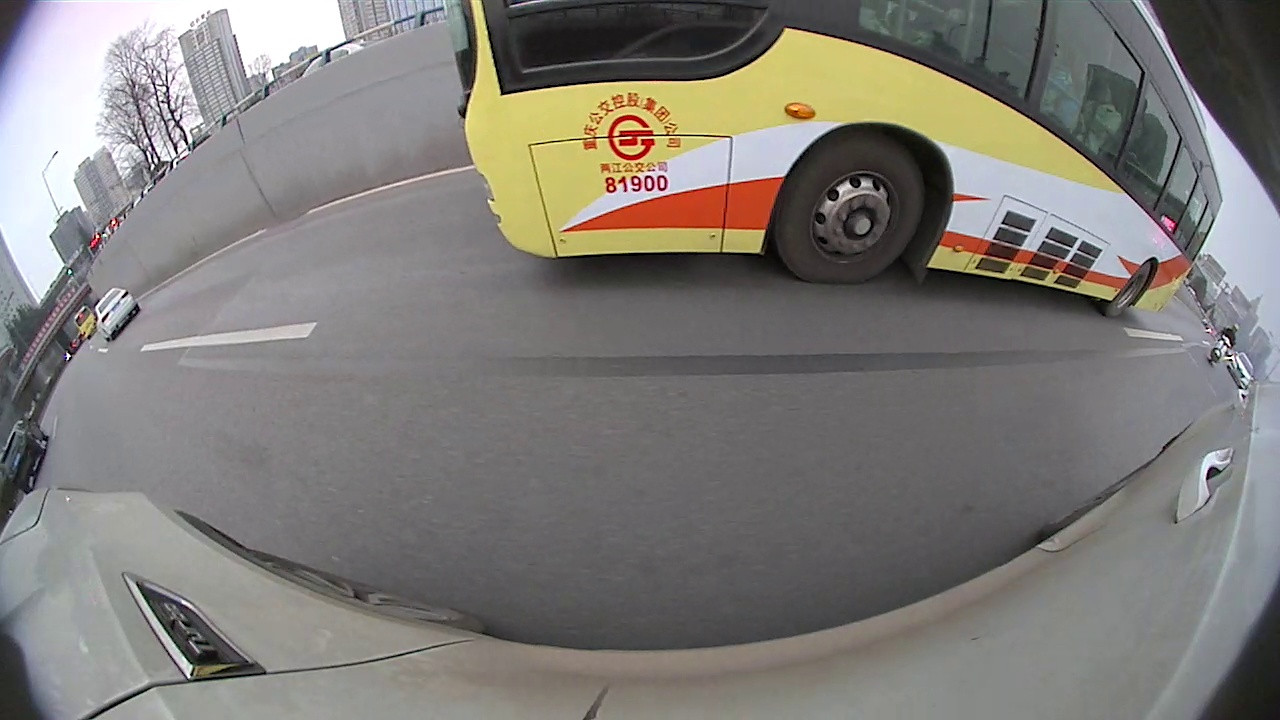bus: (444, 1, 1224, 316)
car: (0, 419, 48, 492), (95, 285, 142, 342)
front: (764, 129, 938, 287)
rear: (1103, 258, 1155, 326)
rider: (1208, 321, 1238, 366)
